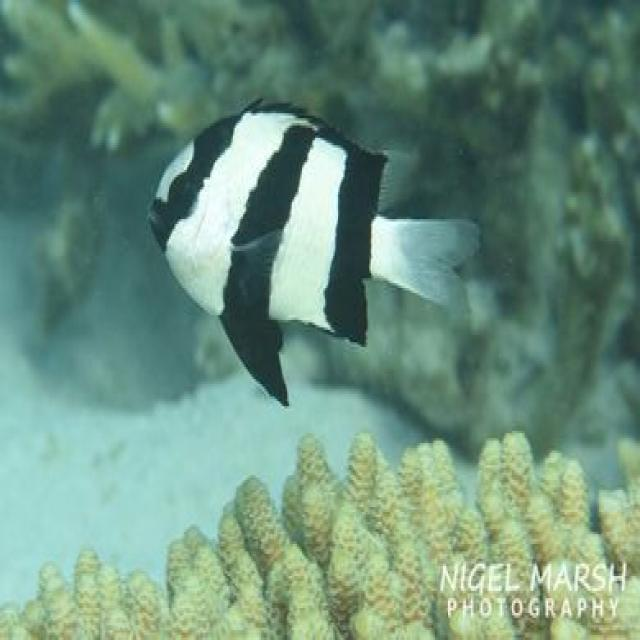Three_striped DasmselFish: (147, 97, 479, 409)
